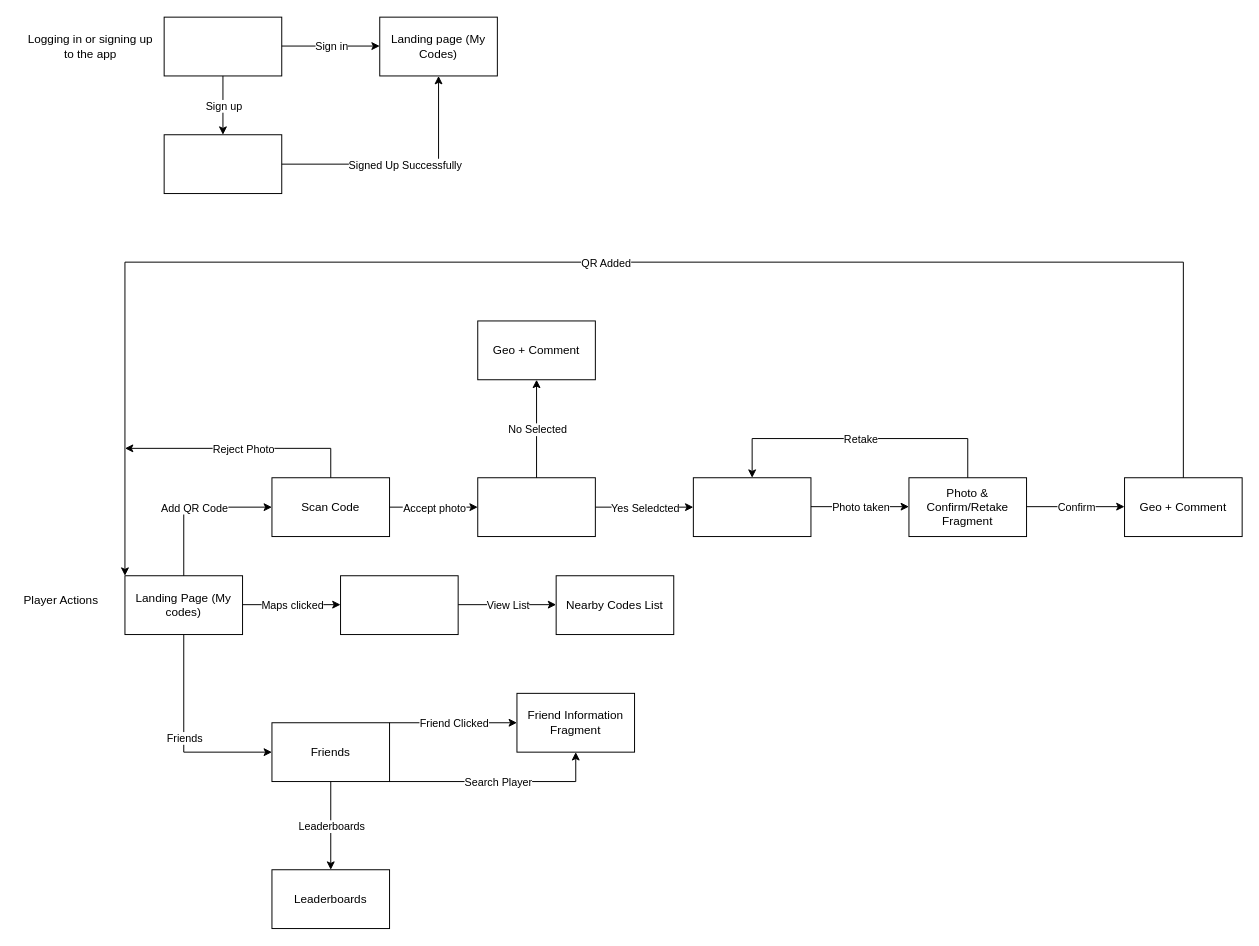
This 1259x946 diagram has some shape labels left out. The shapes that lost their labels are listed below. From the top down, each one's centre as x and y in pixels, then its label:
At point 222,46: "Login screen".
At point 222,164: "Sign up screen/fragment (?)".
At point 536,507: "Yes/No Photo Fragment".
At point 751,507: "Camera Code".
At point 399,605: "Maps".
